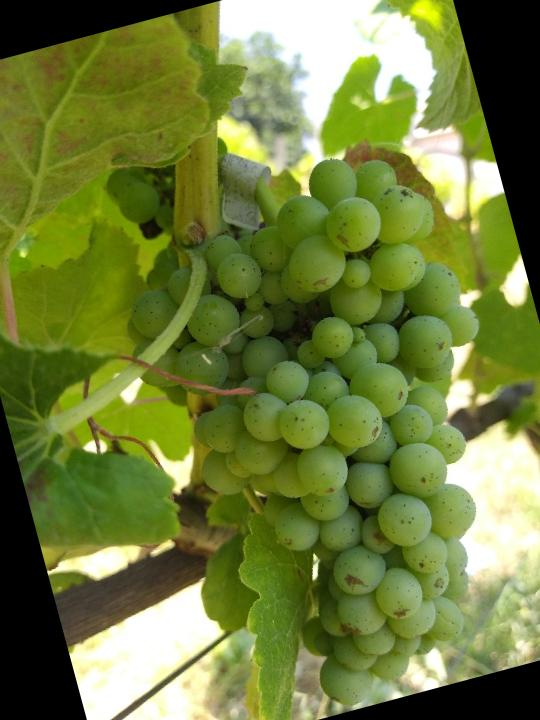grape: (90, 130, 540, 720)
